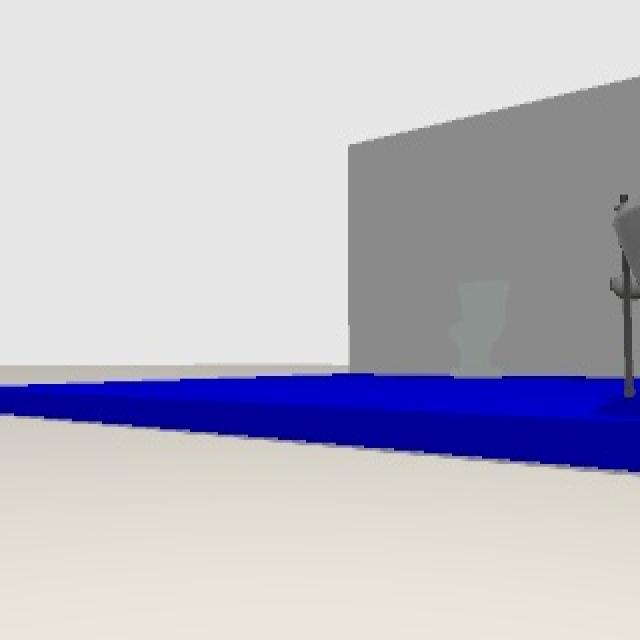bathtub: (606, 192, 638, 400)
